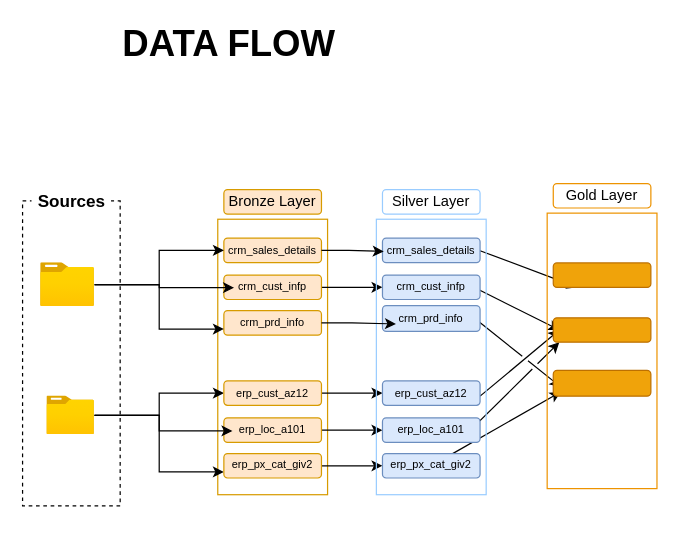
This 678x537 diagram has some shape labels left out. Here are the shapes that lost their labels. From the top down, the centre of each, then its label:
(67,284): CRM
(601,274): Fact_sales
(601,329): Dim_customer
(601,382): Dim_products
(70,415): ERP
